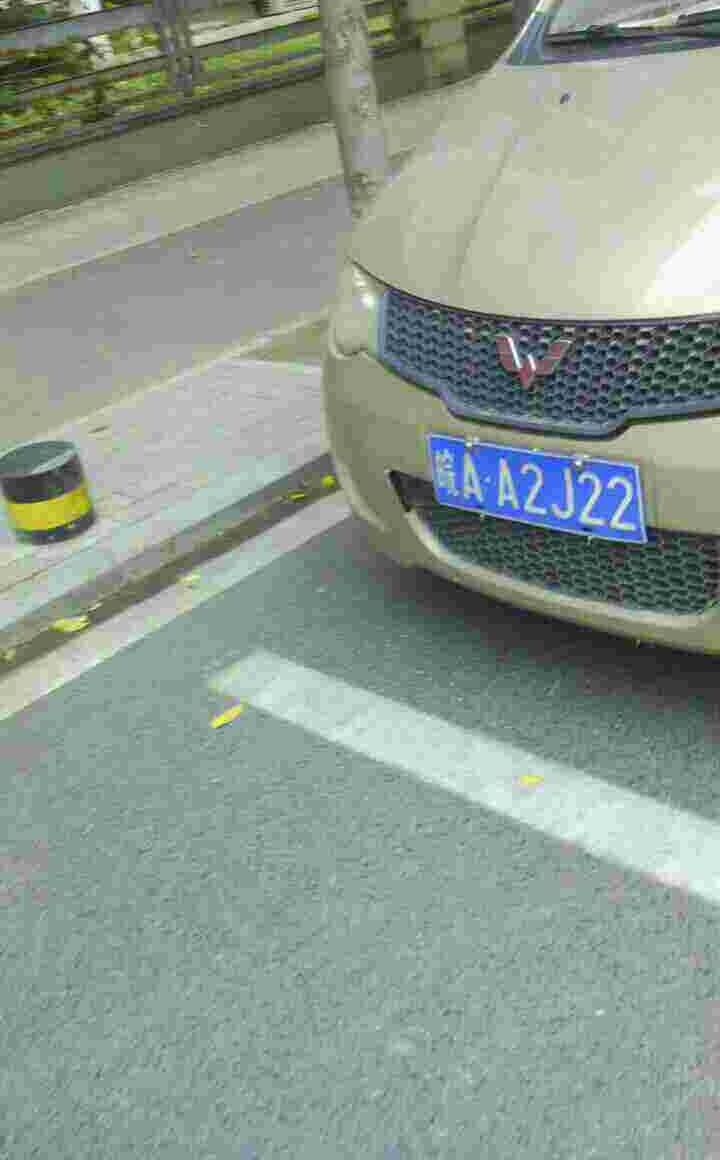license_plate: (428, 441, 659, 528)
